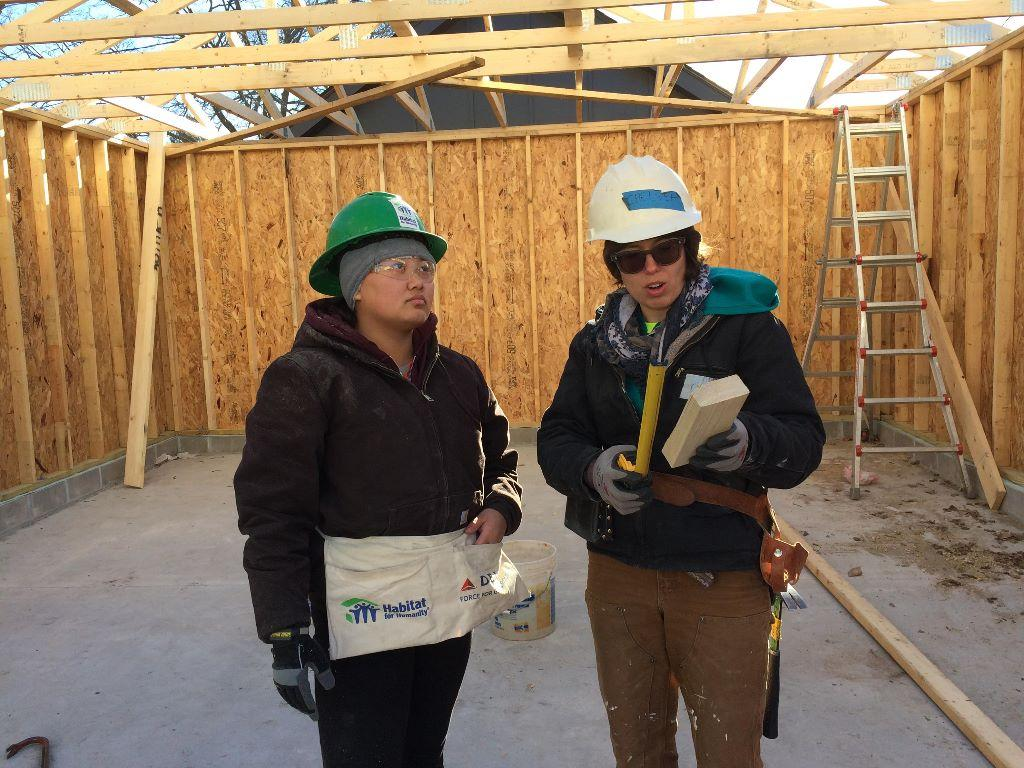helmet: (309, 192, 443, 287), (591, 157, 702, 253)
